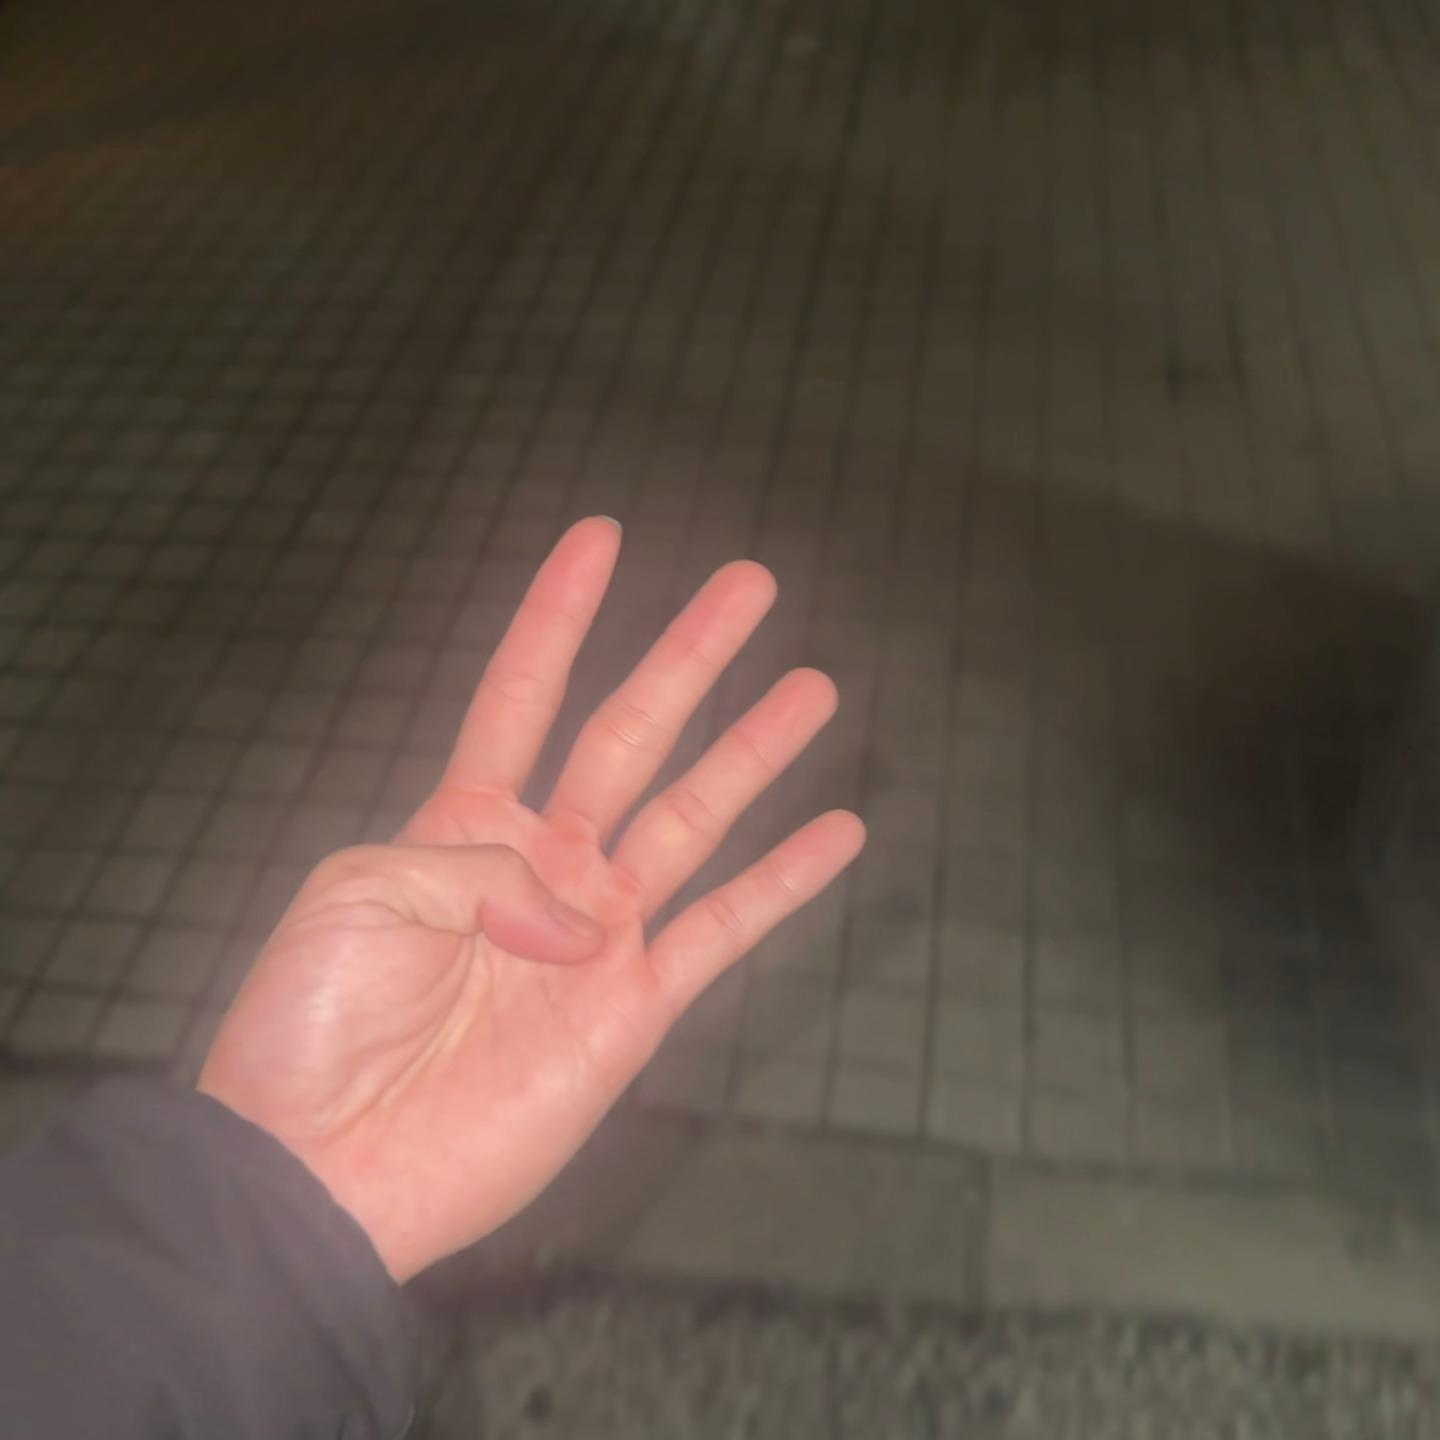without_gloves: (191, 384, 916, 1303)
